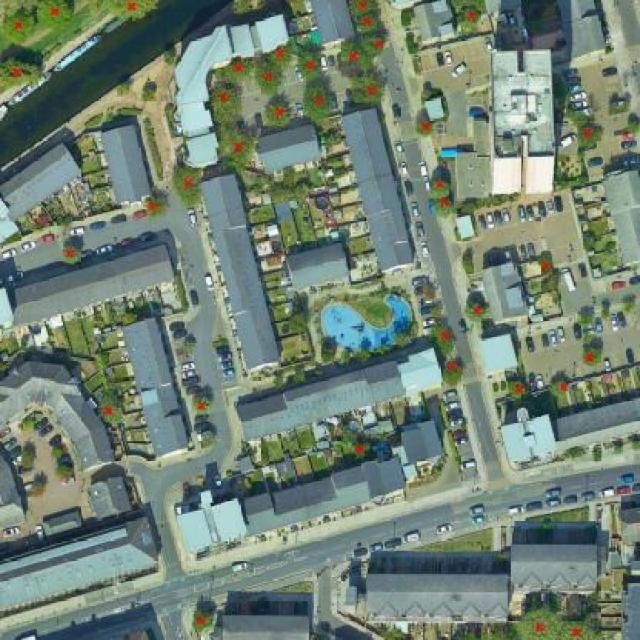tree: (0, 54, 63, 97), (169, 154, 213, 215), (200, 76, 248, 130), (212, 124, 261, 176), (343, 70, 395, 112), (333, 30, 378, 78), (511, 600, 565, 640), (94, 0, 171, 28), (295, 78, 341, 124), (0, 5, 48, 48), (31, 0, 82, 37), (255, 59, 293, 99), (89, 395, 131, 431), (257, 94, 300, 129), (549, 617, 614, 640), (435, 353, 474, 390), (292, 45, 329, 83), (49, 239, 94, 270), (567, 116, 608, 150), (139, 186, 175, 222), (183, 604, 222, 635), (428, 322, 463, 356), (460, 292, 494, 326), (347, 13, 391, 39), (452, 0, 487, 32), (421, 172, 457, 201), (9, 450, 46, 478), (428, 195, 461, 226), (502, 372, 533, 405), (342, 0, 393, 20), (358, 28, 390, 59), (453, 0, 485, 31), (265, 42, 298, 71), (212, 58, 255, 80), (345, 437, 377, 465), (532, 247, 560, 278), (576, 343, 607, 371), (572, 301, 600, 332), (546, 371, 575, 400), (21, 475, 52, 502), (188, 390, 217, 418), (53, 459, 81, 488), (315, 336, 340, 367), (226, 0, 260, 22), (139, 85, 165, 111), (618, 113, 640, 141), (112, 78, 138, 99), (618, 298, 640, 320), (179, 335, 201, 357), (160, 46, 178, 69)
